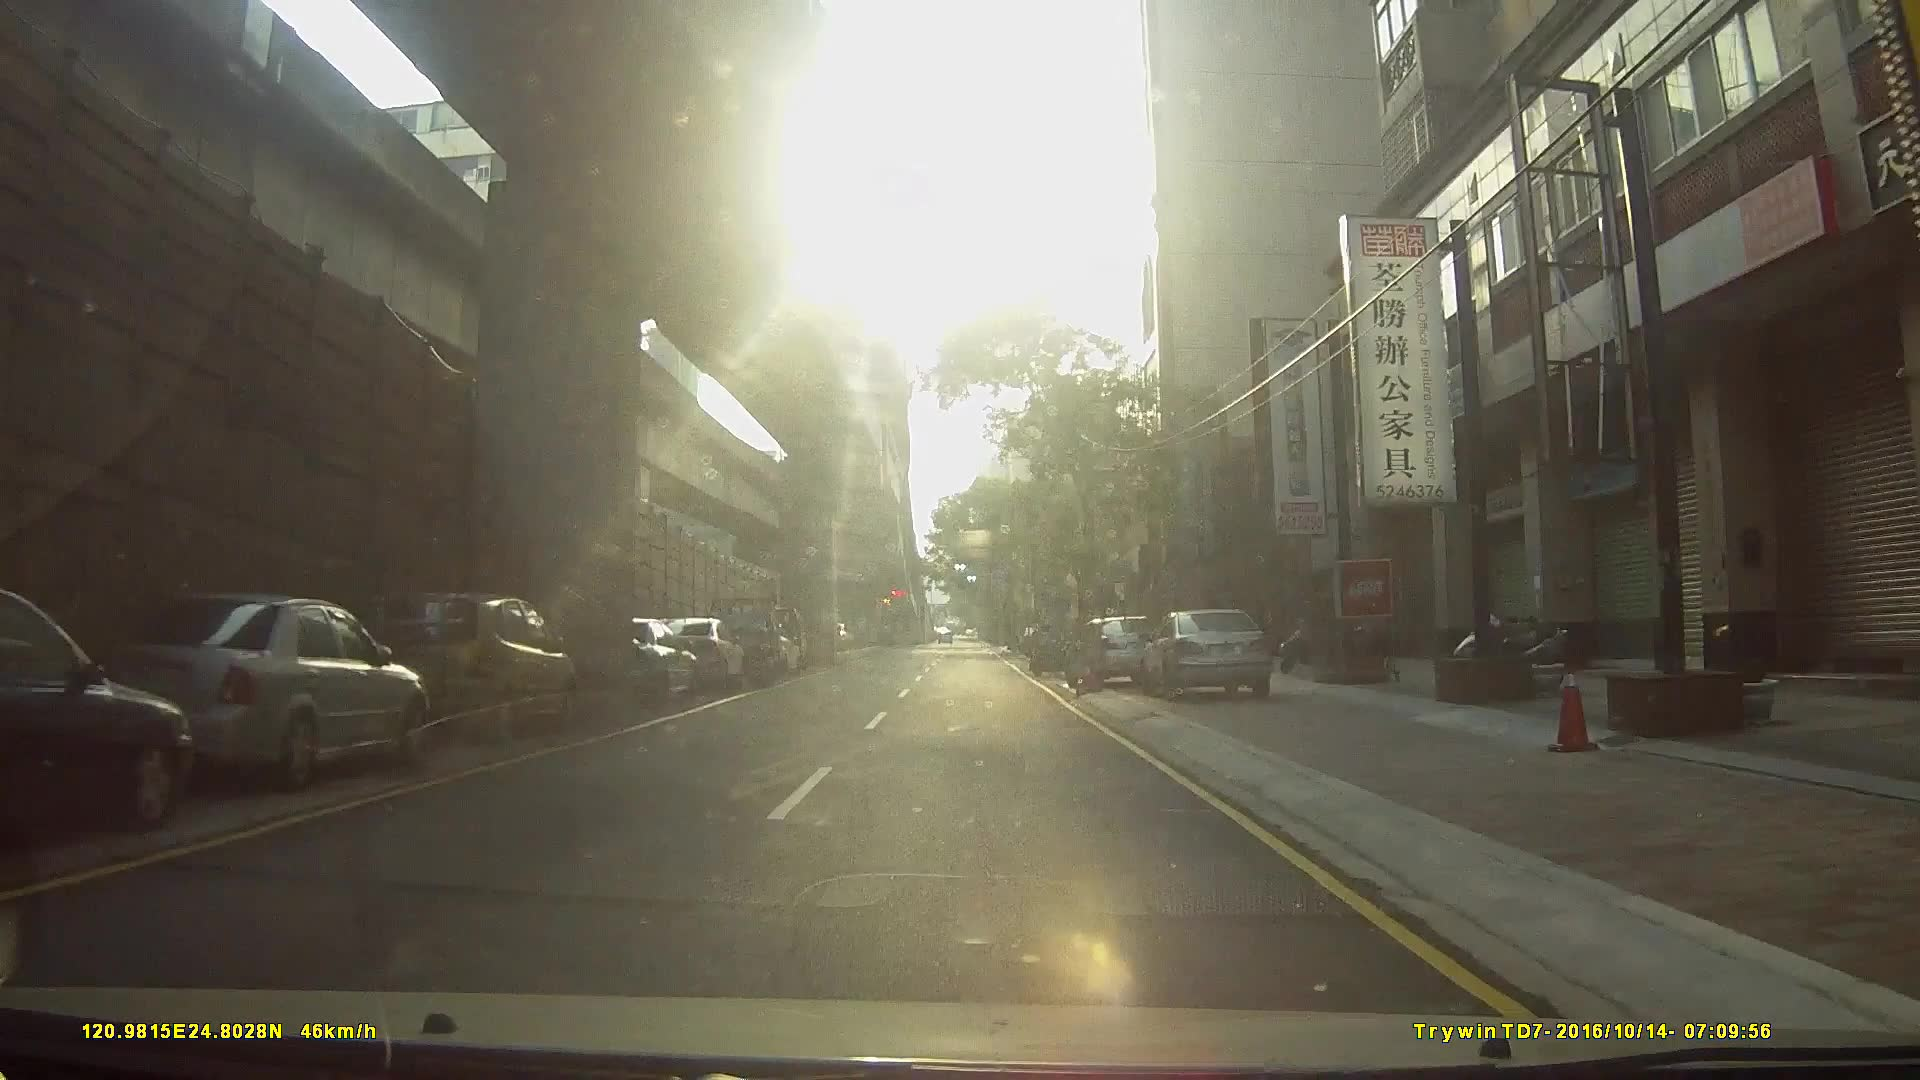rider: (1027, 624, 1069, 679)
vehicle: (84, 591, 409, 798), (1, 581, 199, 854), (337, 587, 571, 750), (1141, 607, 1279, 705), (592, 616, 697, 706), (700, 594, 784, 686), (1066, 614, 1166, 691), (648, 615, 745, 690)
